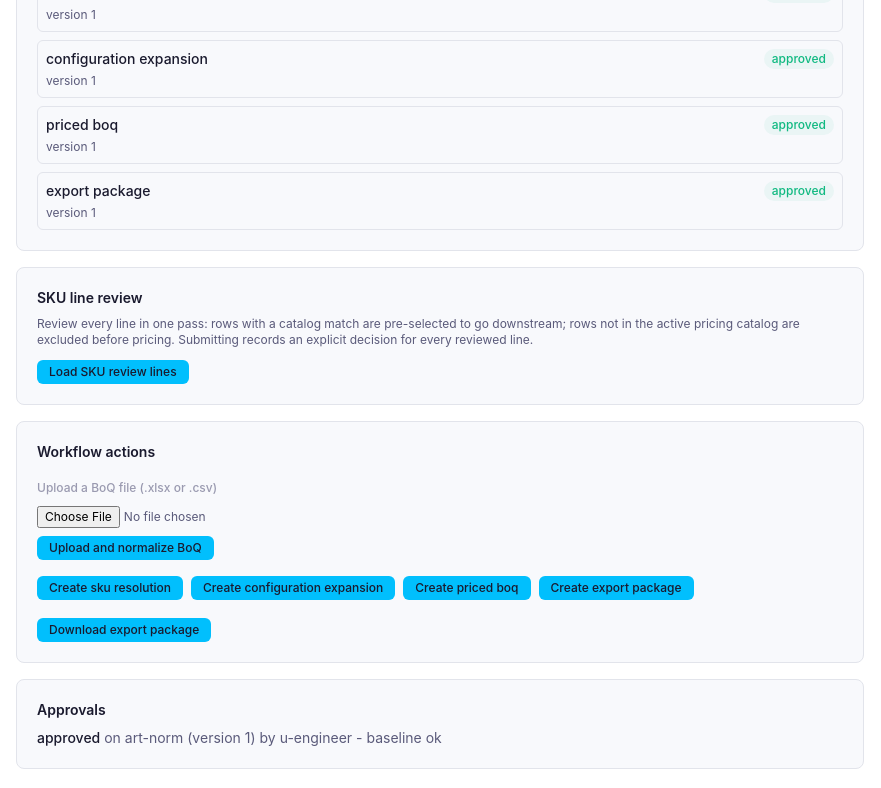
it: ProjectQuickBomPage - create actions › shows the controlled workflow error from a non-ok create response
The width and height of the screenshot is (881, 788).
(page scrolled)
What coordinates should you click on to do the following:
click the button with test id "workflow-create-sku_resolution"
I would click on:
 (110, 588)
Its box is [37,576,183,600].
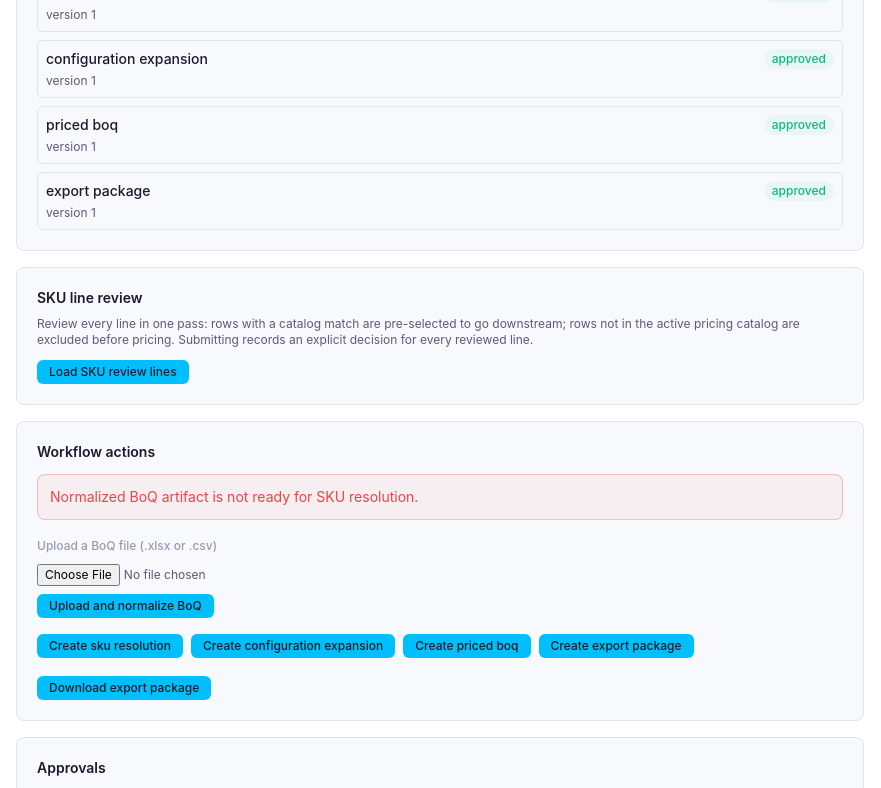
Check: the text with test id "workflow-error" reads "Normalized BoQ artifact is not ready for SKU resolution.", box [50,488,418,505]
